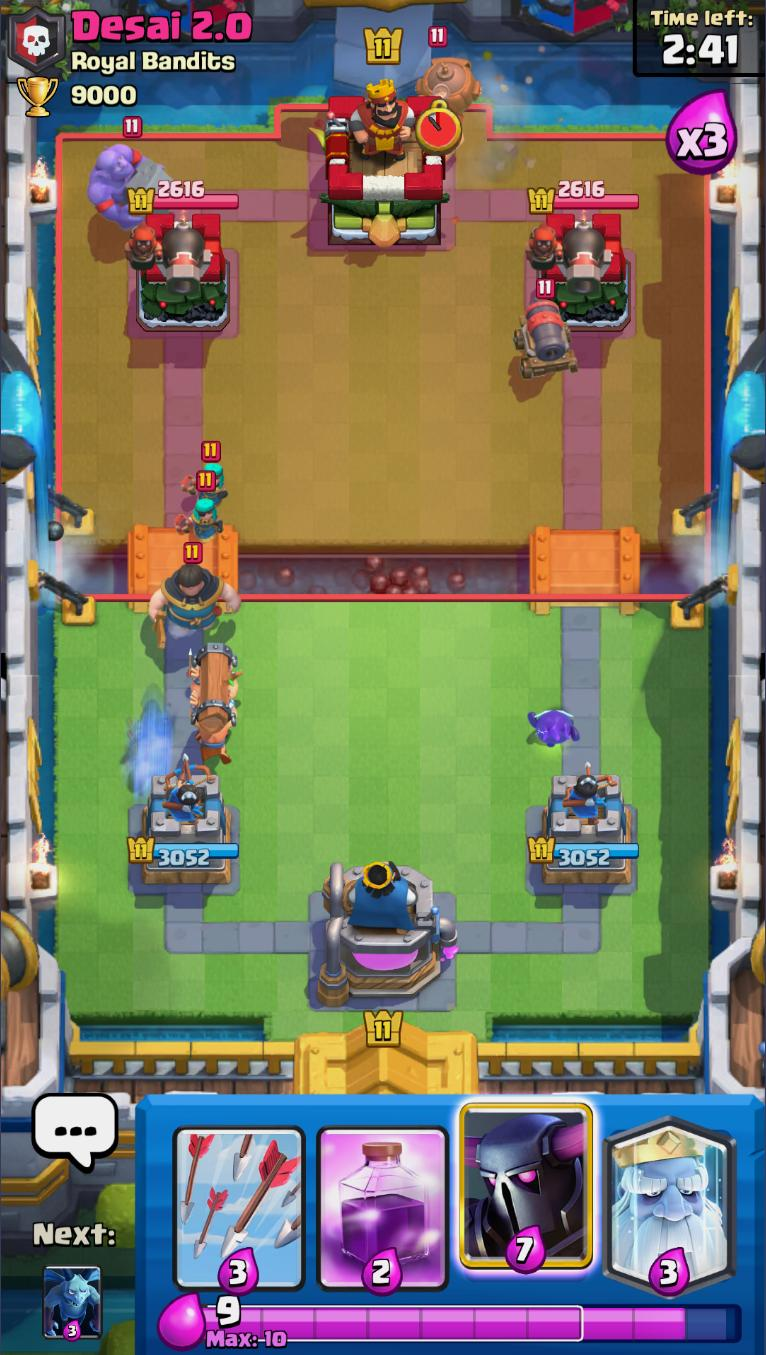ArrowDeck: (168, 1094, 311, 1295)
Bowler: (86, 116, 175, 233)
CannonCart: (512, 277, 579, 380)
Cannoneer: (526, 212, 607, 298), (124, 214, 207, 297)
Elixir: (200, 1296, 745, 1350)
EnemyTower: (524, 209, 633, 333), (125, 207, 231, 332)
KingTower: (310, 81, 461, 249)
MightyMiner: (414, 27, 483, 115)
MinionsNext: (40, 1264, 105, 1341)
MyBandit: (126, 700, 175, 765)
MyBattleRam: (185, 640, 245, 764)
MyElectroSpirit: (528, 706, 579, 750)
MyKingTower: (314, 855, 460, 1007)
MyPrincessTower: (527, 770, 641, 886), (128, 773, 242, 888)
MyPrincessTowerHP: (127, 836, 240, 867), (527, 837, 640, 866)
PekkaDeck: (455, 1095, 600, 1295)
RageDeck: (310, 1094, 456, 1295)
RascalM: (147, 541, 241, 650)
RascalW: (175, 471, 225, 543), (180, 441, 232, 507)
RoyaleGhostDeck: (600, 1095, 740, 1295)
TowerPrincessHP: (127, 178, 240, 212), (529, 179, 641, 211)
